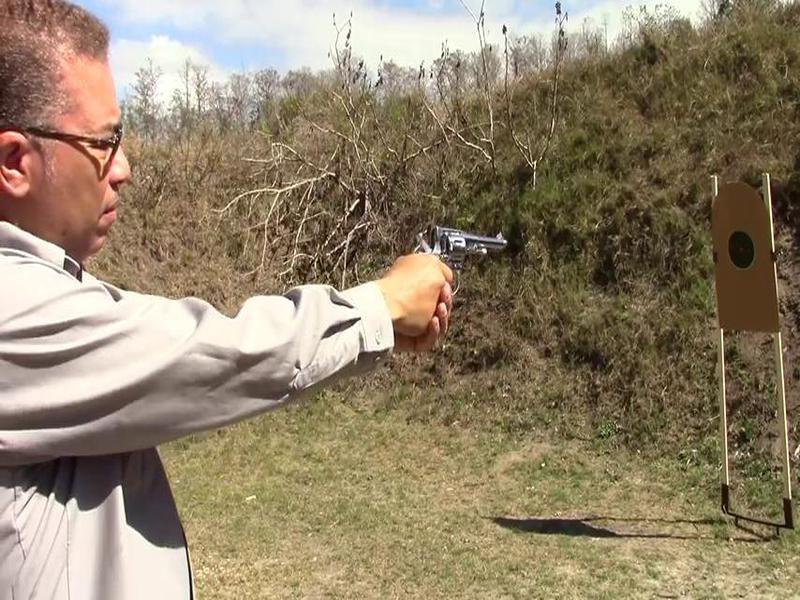Revolver: (411, 211, 522, 297)
